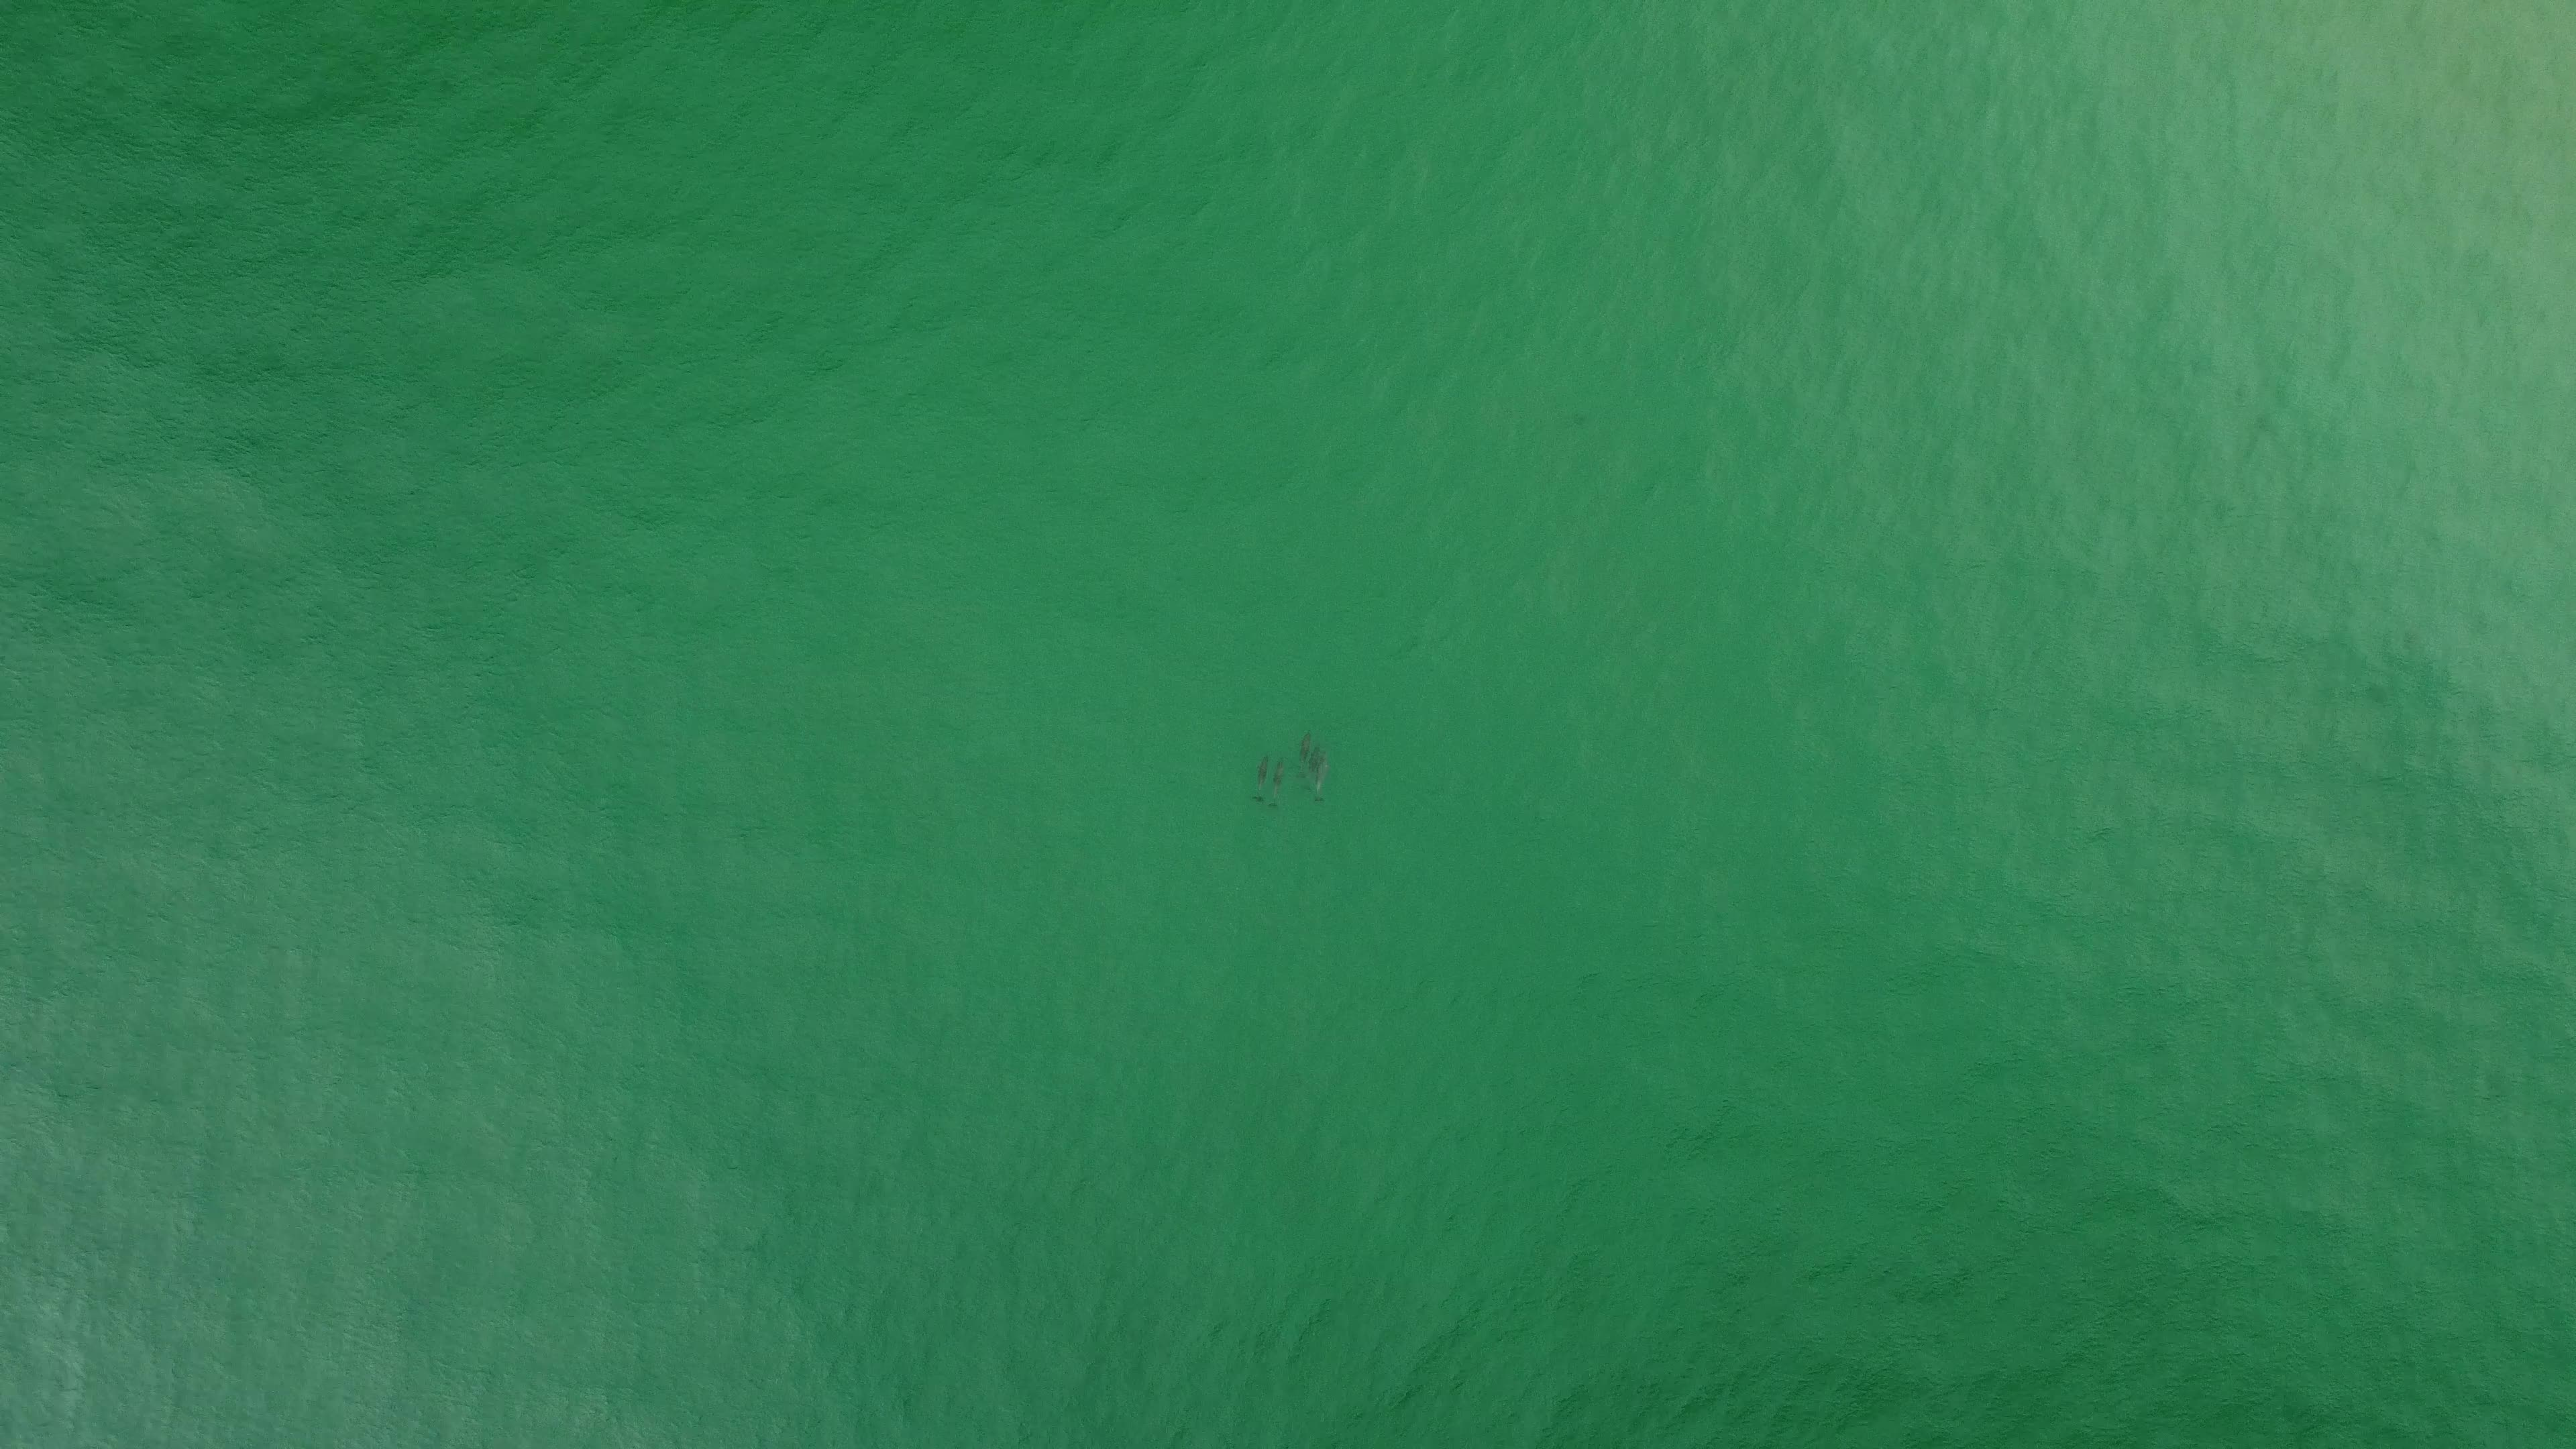dolphin: (1311, 740, 1332, 809), (1265, 743, 1284, 814), (1247, 752, 1272, 803), (1295, 724, 1313, 782), (1304, 736, 1318, 791)
